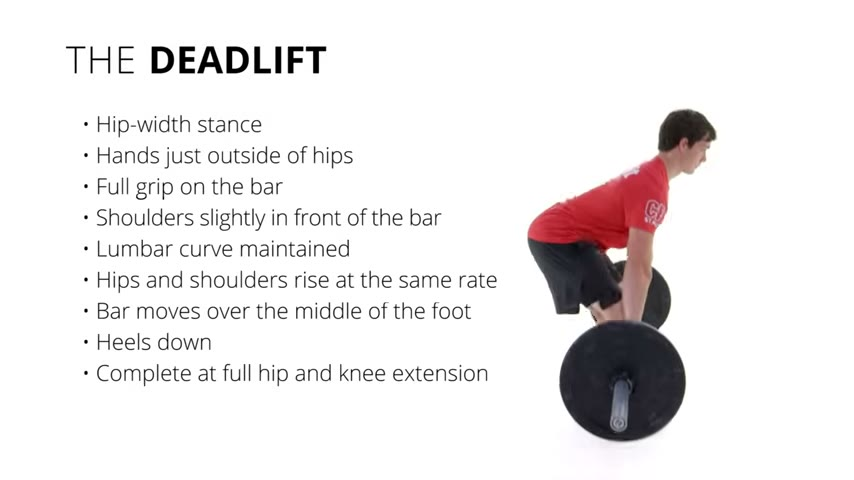barbell_plate_side: (557, 274, 595, 449), (652, 281, 688, 449)
